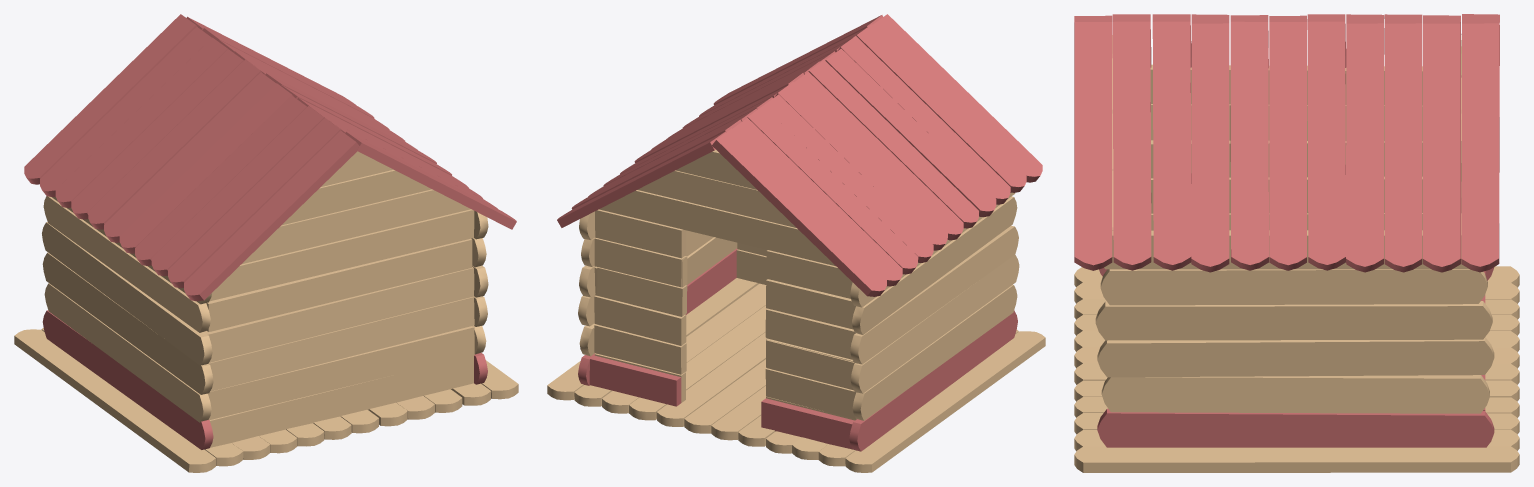
Rendered from Miniature.fbx.
3 views of the same model, side by side, from view 1: azimuth 30°, elevation 25°; view 2: azimuth 150°, elevation 25°; view 3: azimuth 270°, elevation 25° (orthographic). The views are drawn at different scales.
Visible parts, largest first — view 1: Roof-2, Plane.013, Plane, Floor, Plane.047, Roof-1, Plane.001; view 2: Roof-2, Plane.056, Plane, Floor, Plane.060, Roof-1, Plane.065, Plane.001, Plane.018, Plane.013; view 3: Roof-1, Plane, Floor, Plane.018, Roof-2.
Part boxes in pixels (<box>): Roof-2: <box>24,14,359,301</box>; Plane.013: <box>204,209,474,447</box>; Plane: <box>42,196,488,422</box>; Floor: <box>14,328,518,472</box>; Plane.047: <box>242,151,470,263</box>; Roof-1: <box>186,16,516,229</box>; Plane.001: <box>42,310,213,449</box>; Roof-2: <box>712,14,1042,296</box>; Plane.056: <box>594,209,856,420</box>; Plane: <box>578,192,1019,420</box>; Floor: <box>547,278,1045,472</box>; Plane.060: <box>599,150,835,266</box>; Roof-1: <box>557,15,882,227</box>; Plane.065: <box>589,355,854,449</box>; Plane.001: <box>849,310,1017,451</box>; Plane.018: <box>578,248,737,385</box>; Plane.013: <box>736,242,767,284</box>; Roof-1: <box>1074,21,1499,272</box>; Plane: <box>1095,64,1494,413</box>; Floor: <box>1074,266,1519,472</box>; Plane.018: <box>1097,408,1494,447</box>; Roof-2: <box>1074,14,1499,67</box>.
Size of the model in its own units: 12.31 by 10.52 by 11.78.
